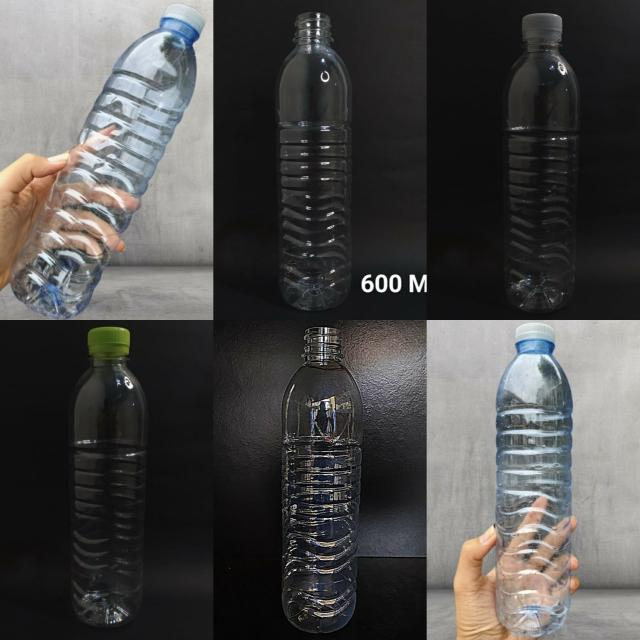plastik: (10, 4, 205, 319), (281, 327, 362, 633), (496, 323, 572, 637), (70, 327, 148, 627), (504, 14, 580, 313), (276, 13, 351, 310)
